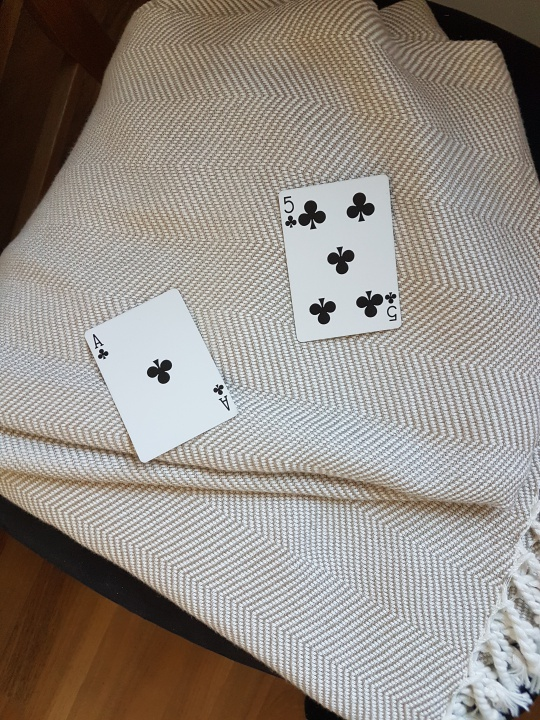5: (267, 166, 413, 341)
ace: (76, 288, 249, 471)
